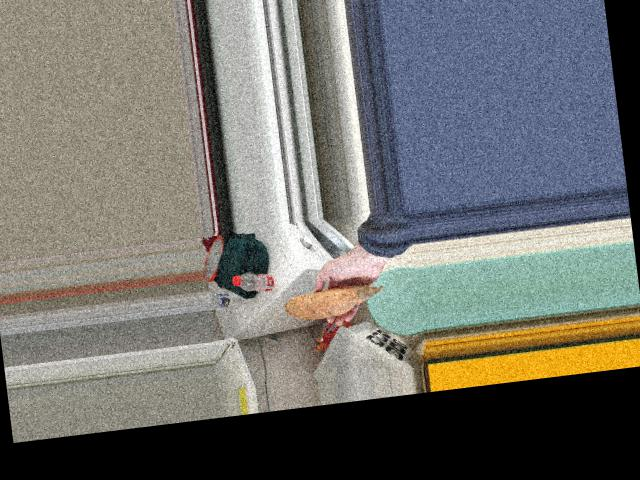sweet_potato: (291, 280, 380, 316)
